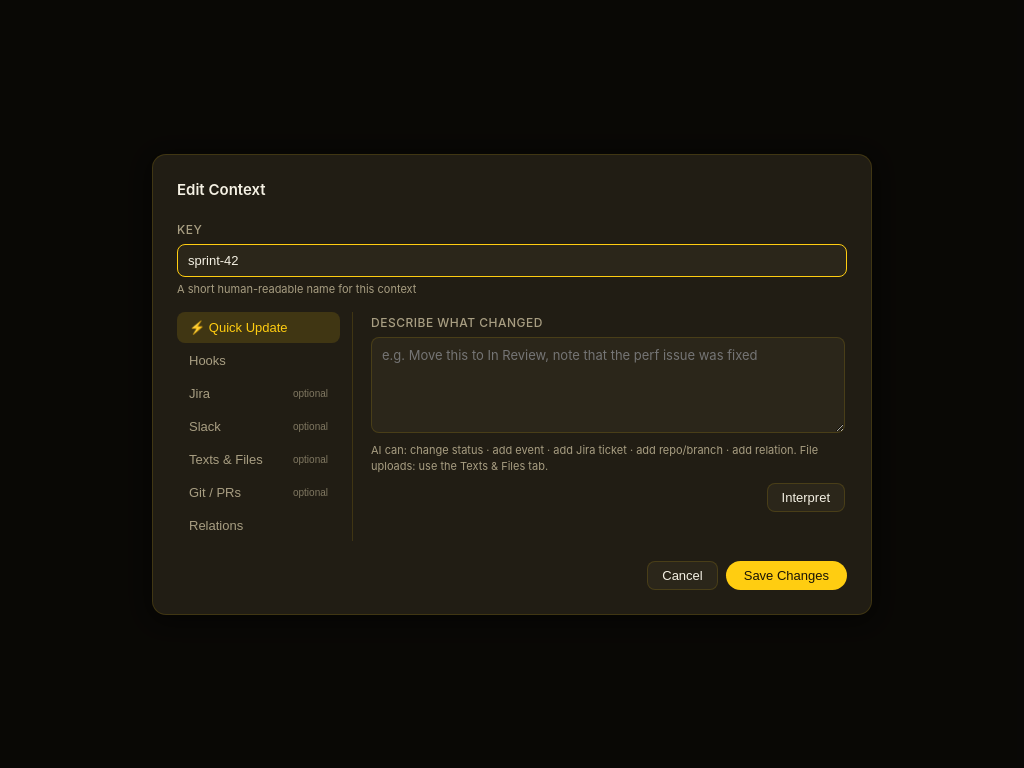
Test case: ContextForm — sidebar layout › renders tabs inside a left sidebar and switches panels
Expected: the element "Jira" is shown, [177, 312, 353, 540]
Expected: the element with class "ctx-content" is shown, [371, 312, 847, 540]
Note: Switching still works: click Relations, its panel shows.
Click the button "Relations": click(258, 525) [177, 510, 340, 540]
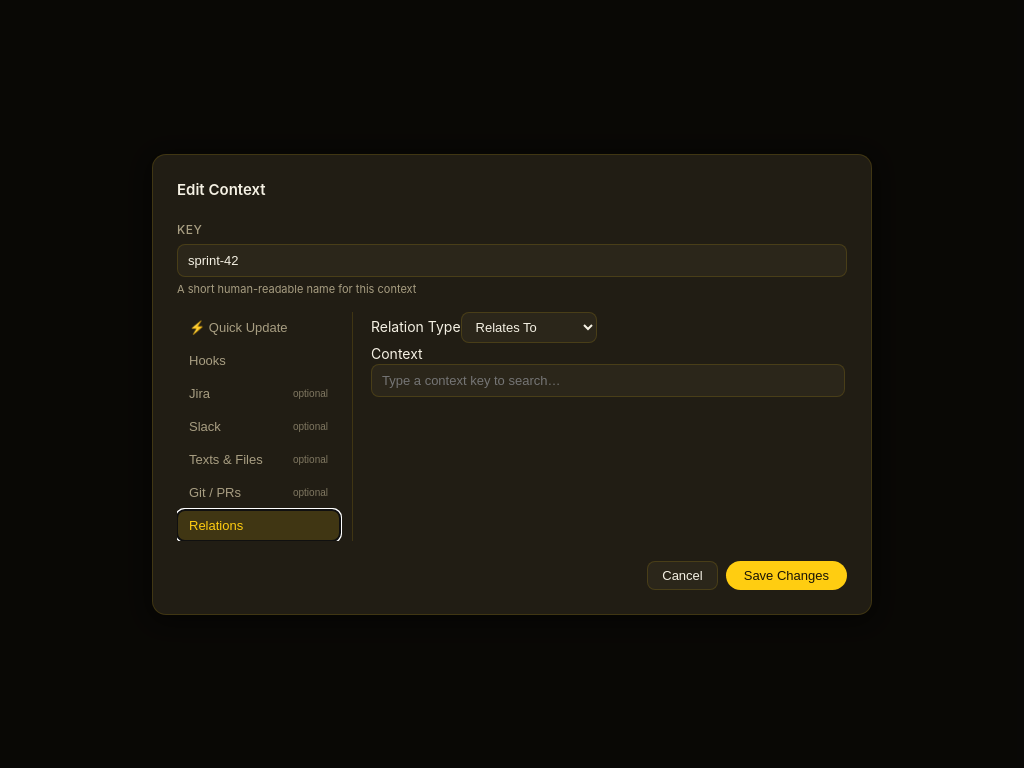
Expected: the text "Relation Type" is shown, [371, 318, 461, 334]
